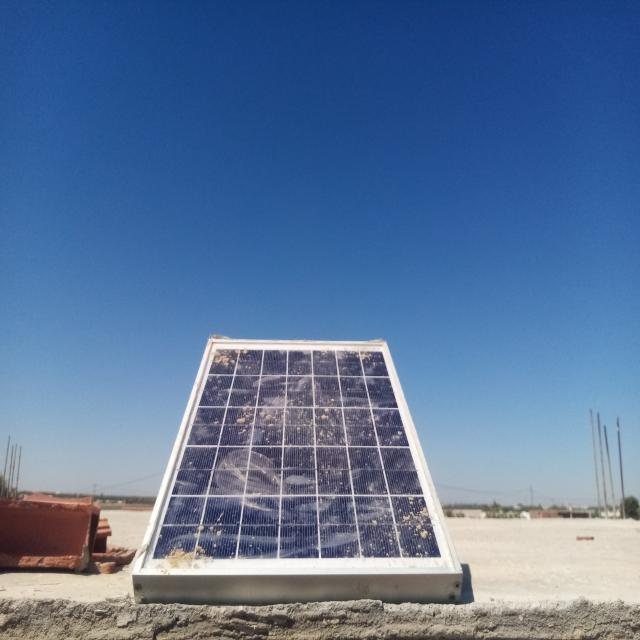faulty: (134, 336, 452, 578)
